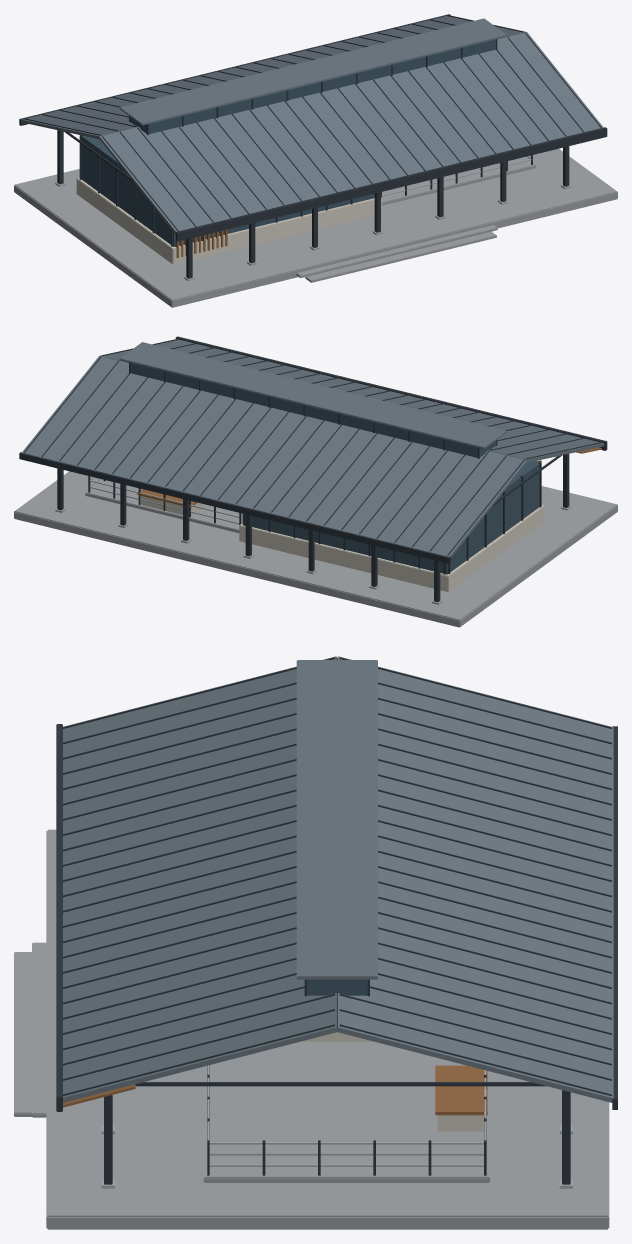
Rendered from trading_shed.glb.
The picture shows the model from 3 angles, top to bottom: view 1: azimuth 30°, elevation 25°; view 2: azimuth 150°, elevation 25°; view 3: azimuth 270°, elevation 25°; orthographic projection. The views are drawn at different scales.
Parts seen in each view (by area): view 1: Body_ZincRoof, Body_ConcBase, Body_CharcoalSteel, Body_LowEGlass, Body_LightWall, Body_WarmCedar, Body_GalvMetal; view 2: Body_ZincRoof, Body_ConcBase, Body_CharcoalSteel, Body_LowEGlass, Body_LightWall, Body_GalvMetal, Body_WarmCedar; view 3: Body_ZincRoof, Body_ConcBase, Body_CharcoalSteel, Body_GalvMetal, Body_WarmCedar, Body_LightWall, Body_LowEGlass.
Boxes of the visible parts, bbox=[...] form: Body_ZincRoof: bbox=[22, 15, 603, 233]; Body_ConcBase: bbox=[14, 148, 617, 307]; Body_CharcoalSteel: bbox=[19, 14, 607, 278]; Body_LowEGlass: bbox=[81, 39, 495, 246]; Body_LightWall: bbox=[76, 177, 381, 264]; Body_WarmCedar: bbox=[158, 213, 227, 257]; Body_GalvMetal: bbox=[55, 156, 571, 281]; Body_ZincRoof: bbox=[22, 339, 604, 557]; Body_ConcBase: bbox=[14, 471, 617, 627]; Body_CharcoalSteel: bbox=[19, 336, 607, 602]; Body_LowEGlass: bbox=[130, 363, 540, 574]; Body_LightWall: bbox=[140, 495, 544, 591]; Body_GalvMetal: bbox=[55, 477, 571, 604]; Body_WarmCedar: bbox=[137, 447, 601, 507]; Body_ZincRoof: bbox=[63, 656, 613, 1102]; Body_ConcBase: bbox=[14, 829, 609, 1229]; Body_CharcoalSteel: bbox=[56, 657, 617, 1184]; Body_GalvMetal: bbox=[101, 1065, 572, 1188]; Body_WarmCedar: bbox=[63, 1065, 487, 1115]; Body_LightWall: bbox=[301, 1032, 483, 1131]; Body_LowEGlass: bbox=[307, 979, 367, 995].
Size of the model in its own units: 38.4 by 10.11 by 25.31.
